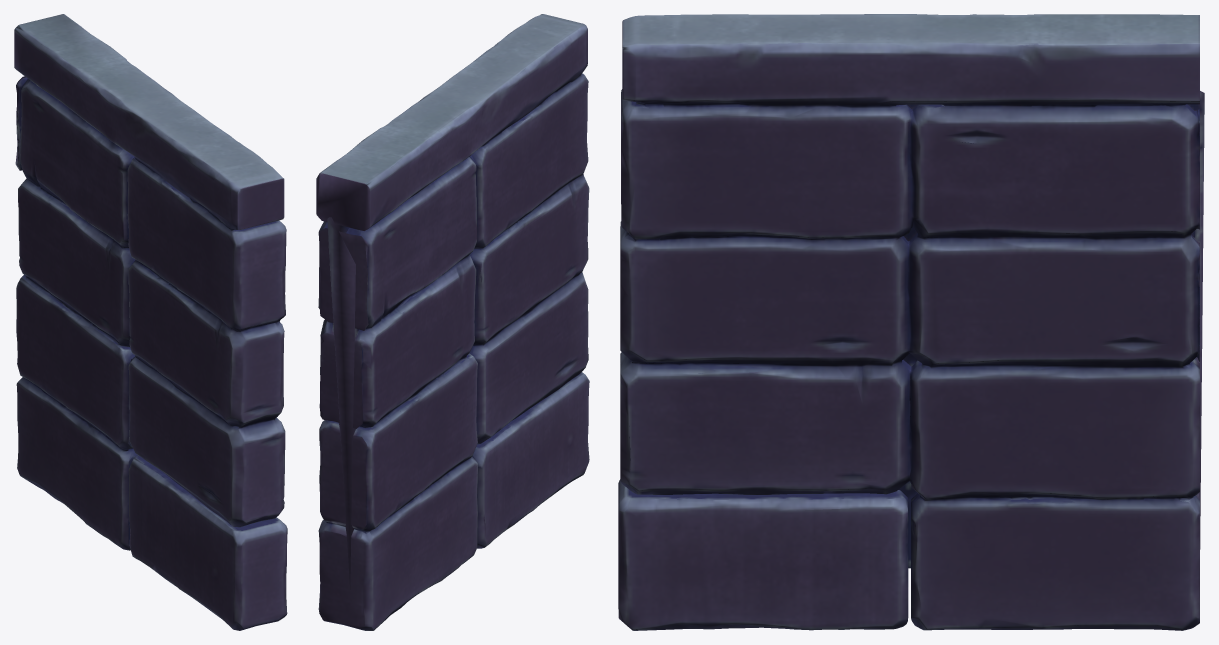
The model's file is wall2.glb.
3 views of the same model, side by side, from view 1: azimuth 30°, elevation 25°; view 2: azimuth 150°, elevation 25°; view 3: azimuth 270°, elevation 25° (orthographic). The views are drawn at different scales.
Parts seen in each view (by area): view 1: Wall_01; view 2: Wall_01; view 3: Wall_01.
Boxes of the visible parts, x1=… form: Wall_01: x1=14, y1=14, x2=287, y2=630; Wall_01: x1=316, y1=14, x2=589, y2=630; Wall_01: x1=618, y1=14, x2=1204, y2=630.
Size of the model in its own units: 0.0829 by 0.6376 by 0.5772.
1 material, 1 textured.
